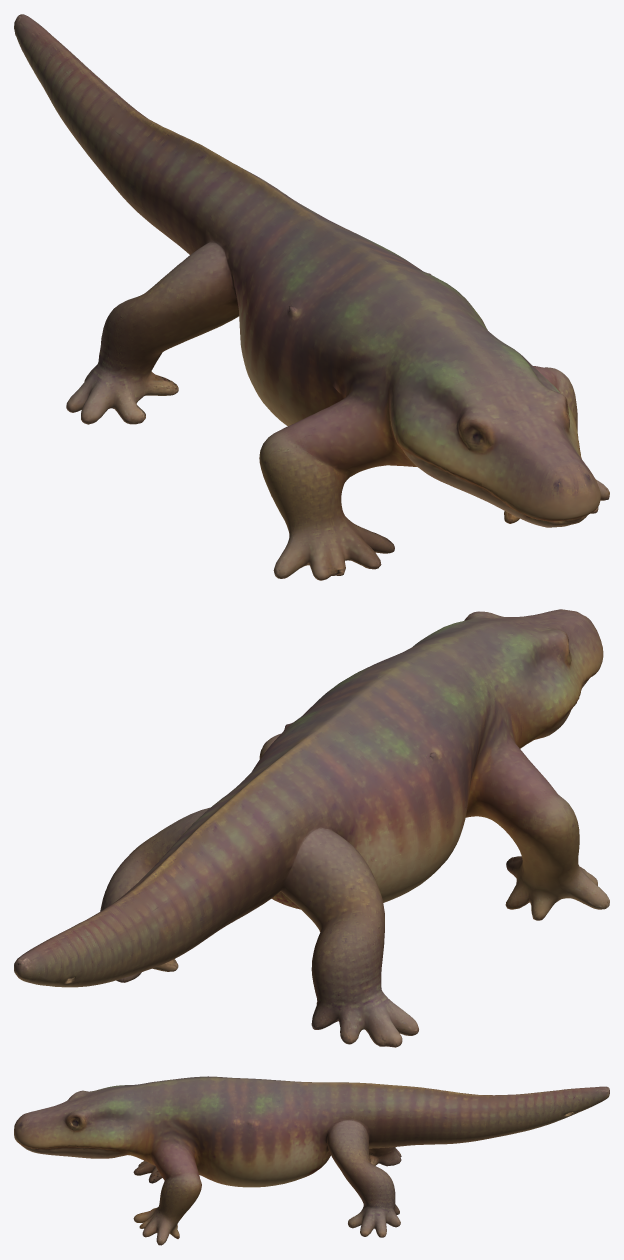
3 renders of one model, top to bottom at view 1: azimuth 30°, elevation 25°; view 2: azimuth 150°, elevation 25°; view 3: azimuth 270°, elevation 25°, orthographic. The views are drawn at different scales.
Parts seen in each view (by area): view 1: world; view 2: world; view 3: world.
Part boxes in pixels (x1,y1,x2,y2): world: [14, 14, 609, 580]; world: [14, 609, 609, 1047]; world: [14, 1076, 609, 1245].
Size of the model in its own units: 0.7616 by 0.534 by 2.2.
1 material, 1 textured.
